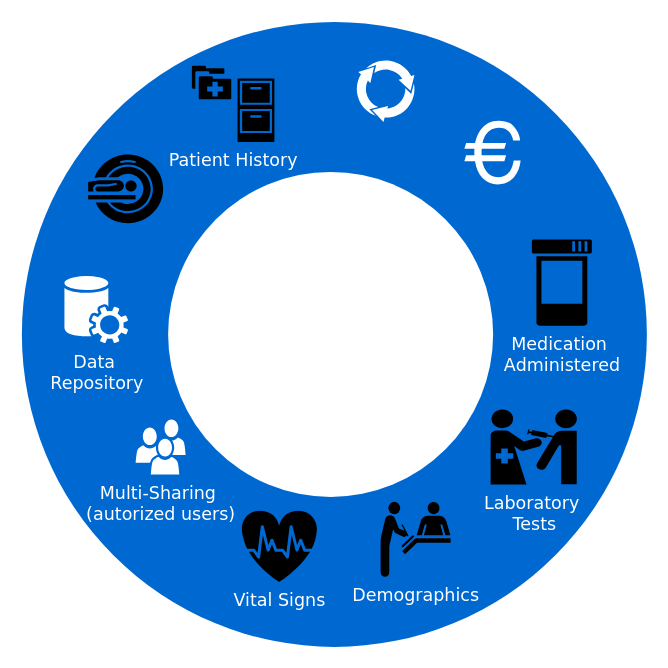
This 668x668 diagram has some shape labels left out. Each missing label, with the box of its shape:
Billing: (464, 120, 520, 184)
Data Exchange: (355, 59, 415, 121)
Electronic Health Record System(EHR): (168, 171, 492, 496)
PACS Systems: (88, 154, 162, 222)
